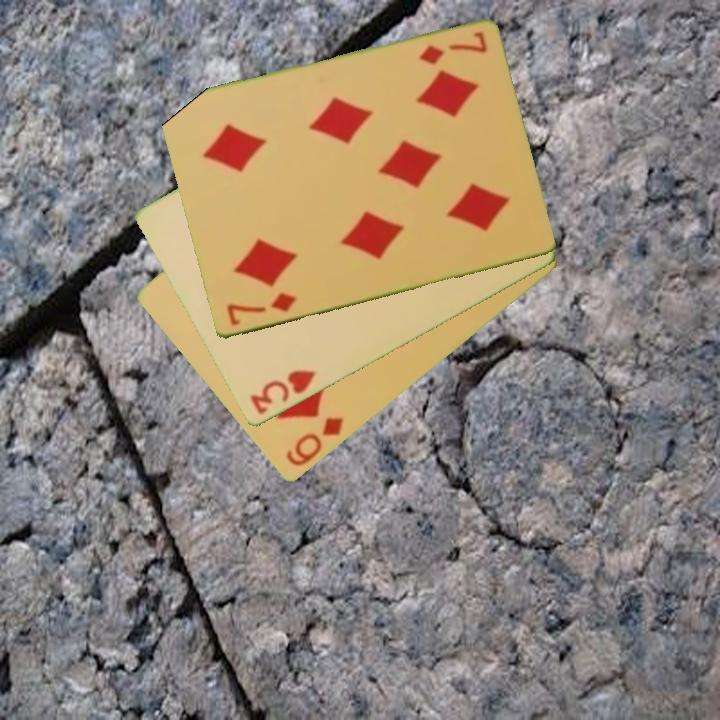3h: (247, 367, 319, 418)
6d: (282, 414, 347, 470)
7d: (222, 289, 299, 330), (414, 28, 490, 68)
